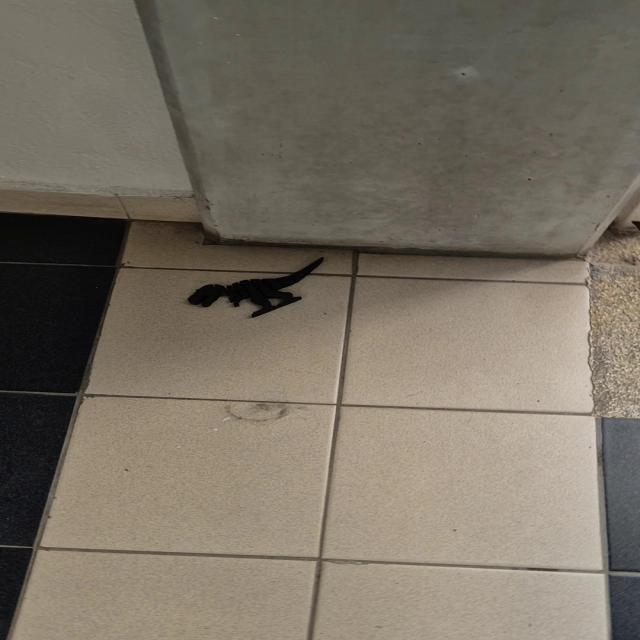dino: (187, 256, 325, 318)
